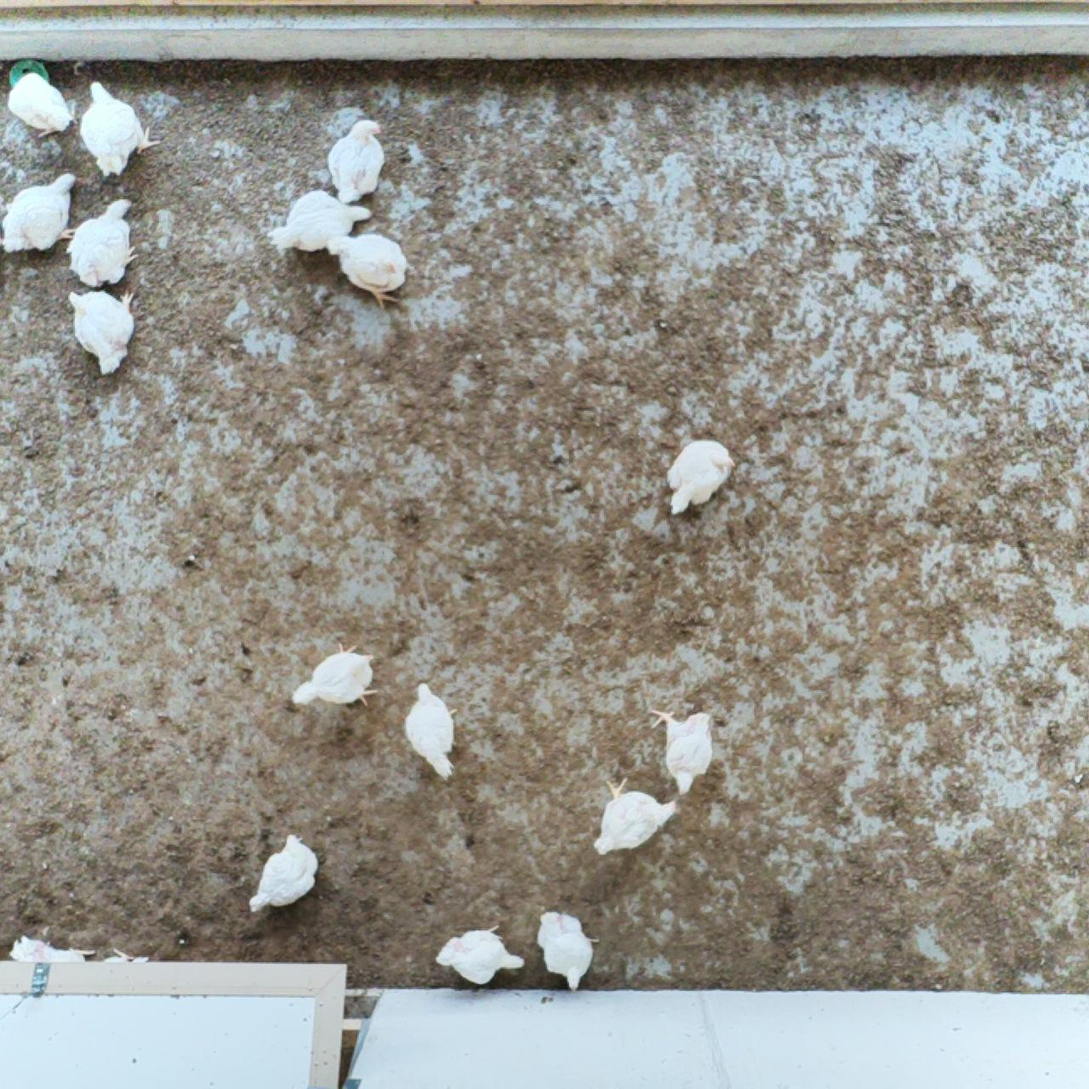chicken: (75, 80, 164, 179), (586, 773, 681, 861), (323, 223, 415, 310), (263, 189, 374, 261), (289, 638, 389, 714), (0, 168, 81, 260), (64, 284, 138, 382), (67, 195, 141, 291), (658, 432, 737, 521), (244, 832, 321, 920), (648, 704, 717, 798), (402, 680, 465, 782), (435, 918, 526, 988), (533, 906, 602, 994), (325, 115, 386, 206), (6, 70, 81, 142)
